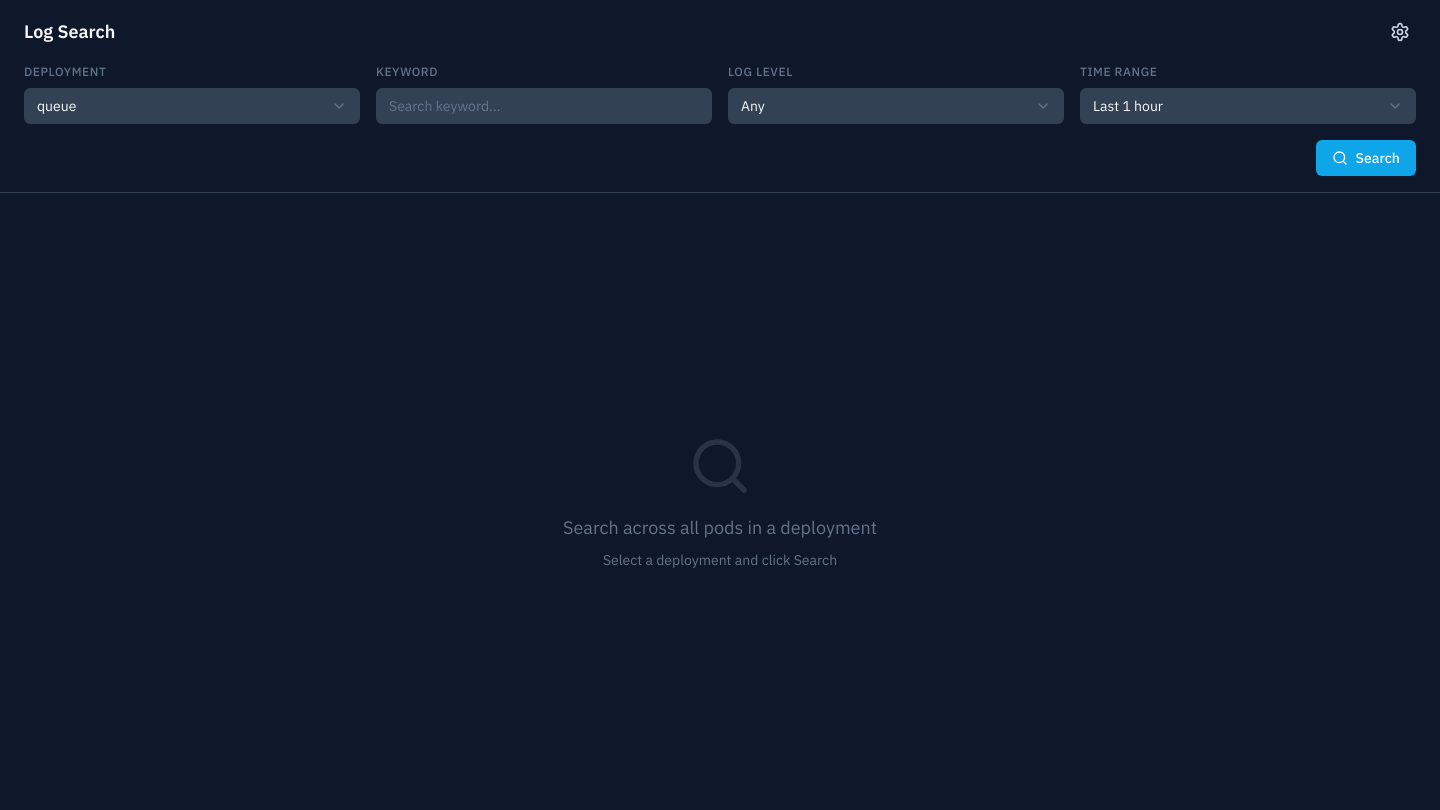
search completeness › shows matches alongside partial failure details
The width and height of the screenshot is (1440, 810).
What coordinates should you click on to do the following:
click the button "Search"
I would click on:
 (1366, 158)
Its box is [1316,140,1416,176].
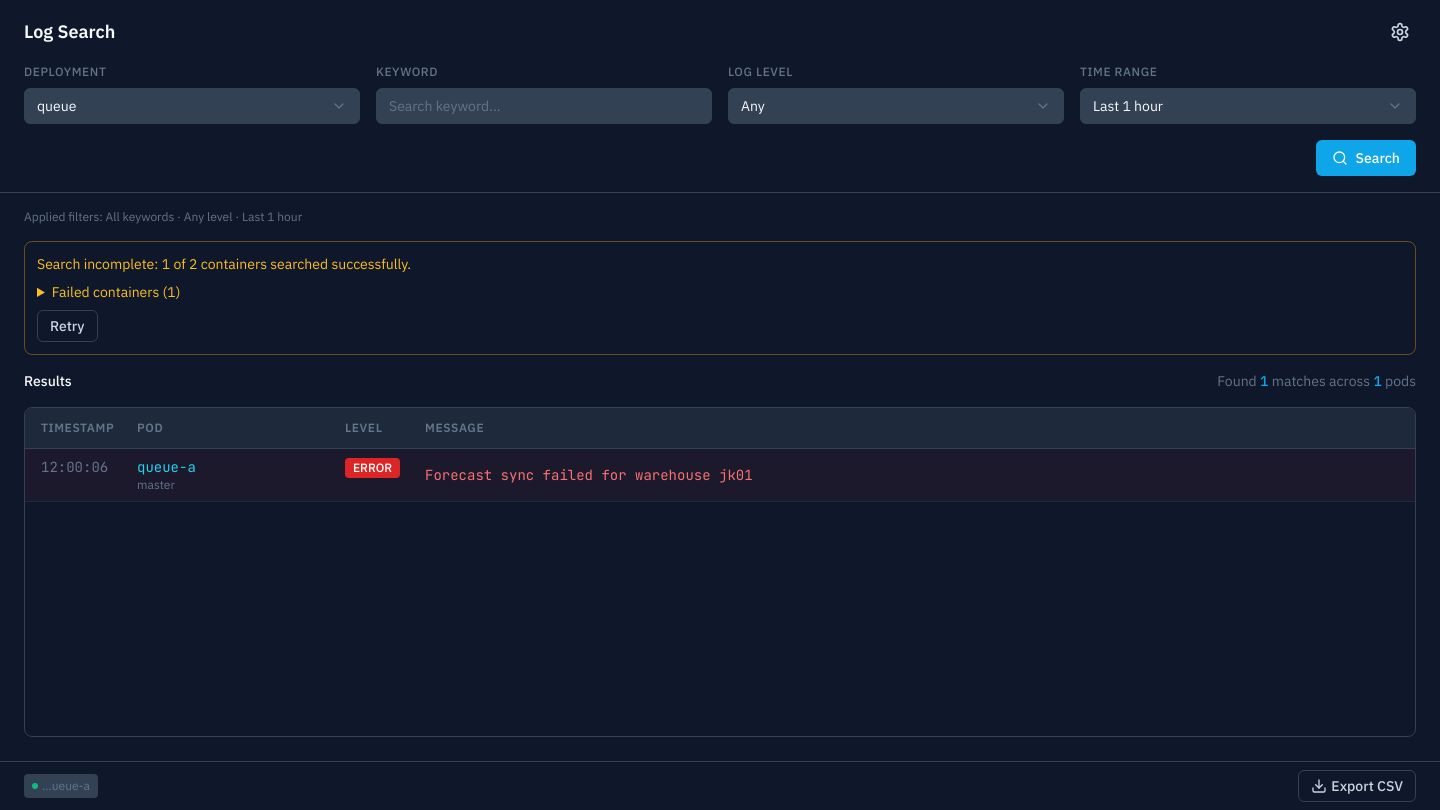
Result: the table is shown at [25,408,1415,502]
Result: the message shows "Search incomplete: 1 of 2 containers searched successfully." at [24,241,1416,355]
What coordinates should you click on to do the following:
click the heading "Failed containers (1)"
I would click on:
 (116, 292)
Its box is [52,283,180,301].
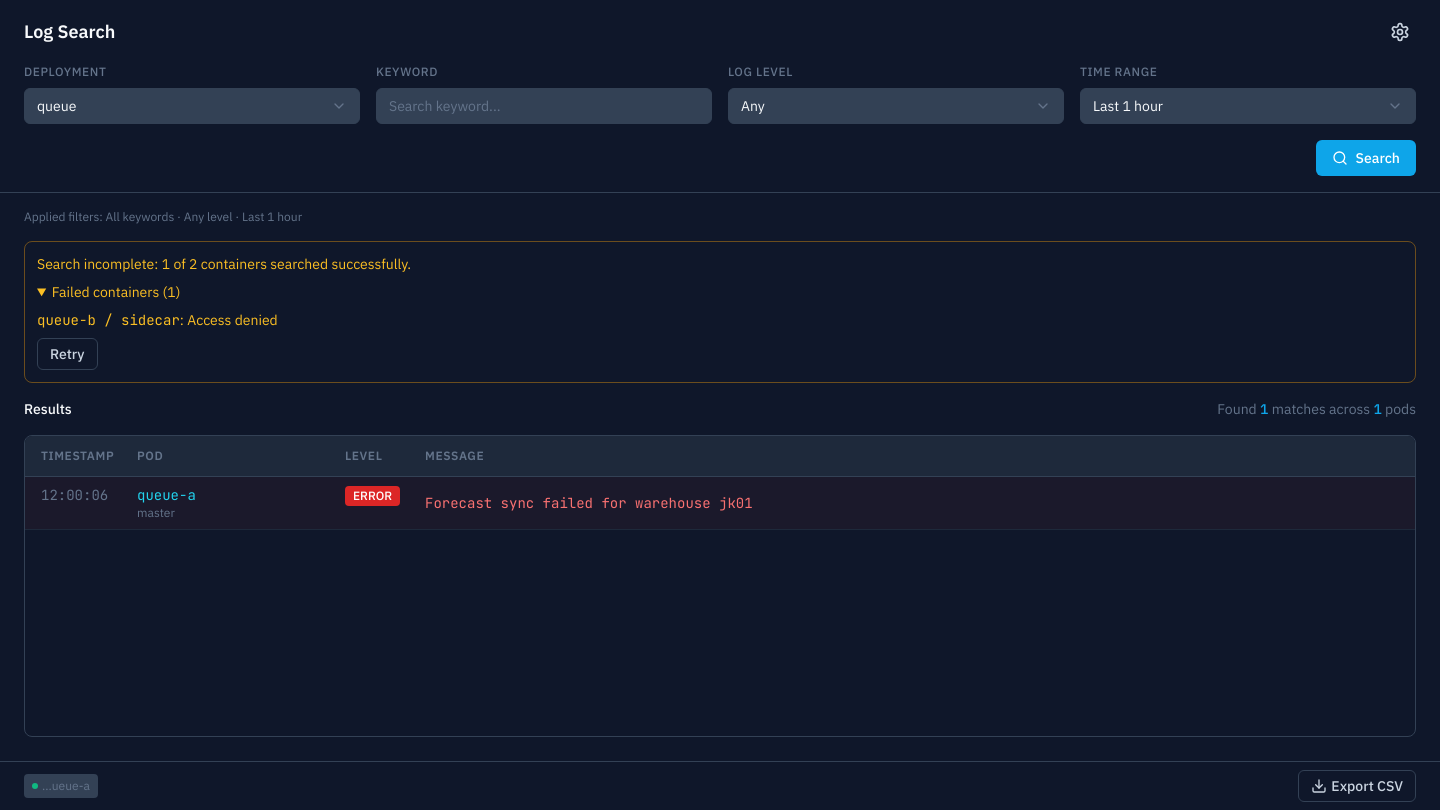
Result: the text "queue-b / sidecar" is shown at [37,311,180,329]
Result: the list item "queue-b / sidecar: Access denied" is shown at [37,311,278,329]
